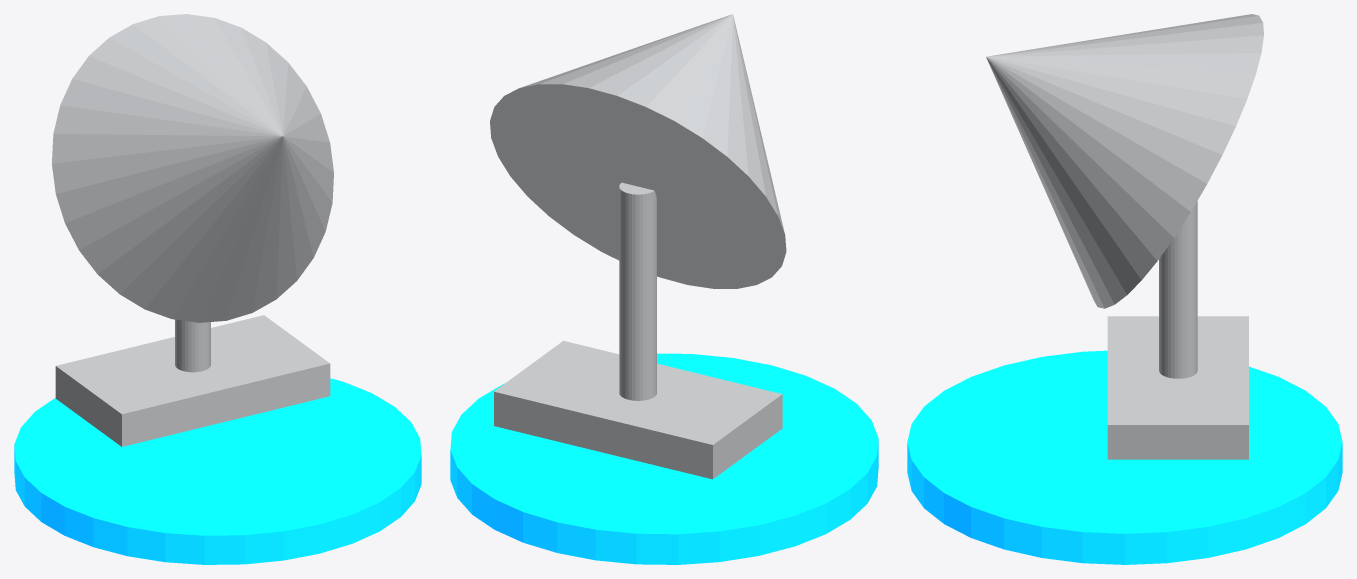
The model's file is news_satellite_dish.glb.
3 views of the same model, side by side, from view 1: azimuth 30°, elevation 25°; view 2: azimuth 150°, elevation 25°; view 3: azimuth 270°, elevation 25° (orthographic). The views are drawn at different scales.
Visible parts, largest first — view 1: 09_05_Popular_News_Satellite_Dish_part_01, 09_05_Popular_News_Satellite_Dish_ROOT_base, 09_05_Popular_News_Satellite_Dish_part_03, 09_05_Popular_News_Satellite_Dish_part_02; view 2: 09_05_Popular_News_Satellite_Dish_part_01, 09_05_Popular_News_Satellite_Dish_ROOT_base, 09_05_Popular_News_Satellite_Dish_part_03, 09_05_Popular_News_Satellite_Dish_part_02; view 3: 09_05_Popular_News_Satellite_Dish_ROOT_base, 09_05_Popular_News_Satellite_Dish_part_01, 09_05_Popular_News_Satellite_Dish_part_03, 09_05_Popular_News_Satellite_Dish_part_02.
Part boxes in pixels (x1,y1,x2,y2): 09_05_Popular_News_Satellite_Dish_part_01: [52, 14, 333, 322]; 09_05_Popular_News_Satellite_Dish_ROOT_base: [14, 378, 421, 564]; 09_05_Popular_News_Satellite_Dish_part_03: [55, 315, 330, 446]; 09_05_Popular_News_Satellite_Dish_part_02: [175, 319, 210, 372]; 09_05_Popular_News_Satellite_Dish_part_01: [490, 14, 786, 288]; 09_05_Popular_News_Satellite_Dish_ROOT_base: [450, 353, 878, 564]; 09_05_Popular_News_Satellite_Dish_part_03: [494, 340, 782, 479]; 09_05_Popular_News_Satellite_Dish_part_02: [619, 182, 656, 400]; 09_05_Popular_News_Satellite_Dish_ROOT_base: [907, 350, 1342, 564]; 09_05_Popular_News_Satellite_Dish_part_01: [986, 14, 1263, 308]; 09_05_Popular_News_Satellite_Dish_part_03: [1107, 316, 1248, 459]; 09_05_Popular_News_Satellite_Dish_part_02: [1159, 201, 1197, 378].
Size of the model in its own units: 0.76 by 0.85 by 0.76.
